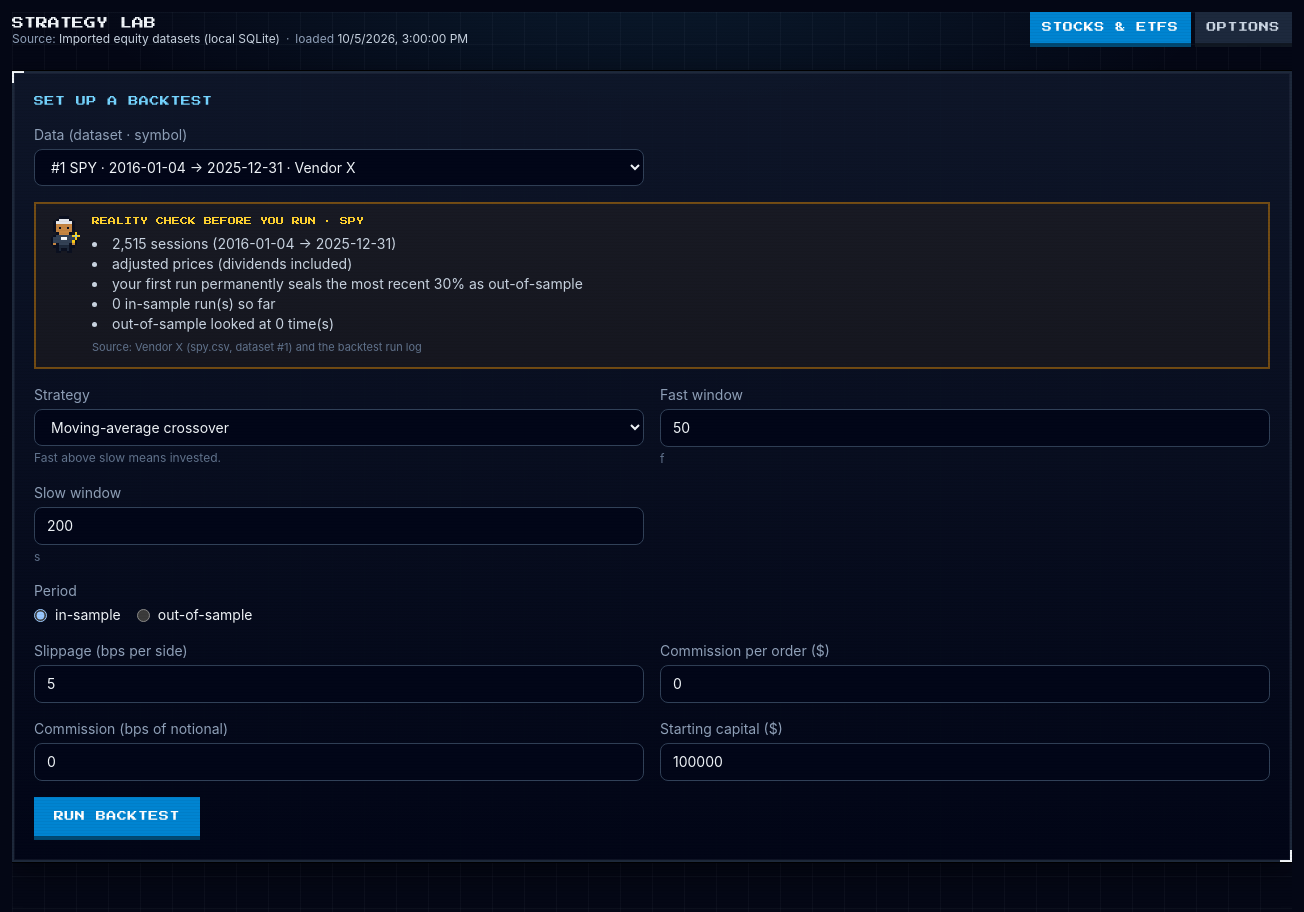
Test case: Options lab › says "No data" when no option quotes are imported
Click the tab "Options" at (1243, 30), box [1194, 12, 1292, 47]
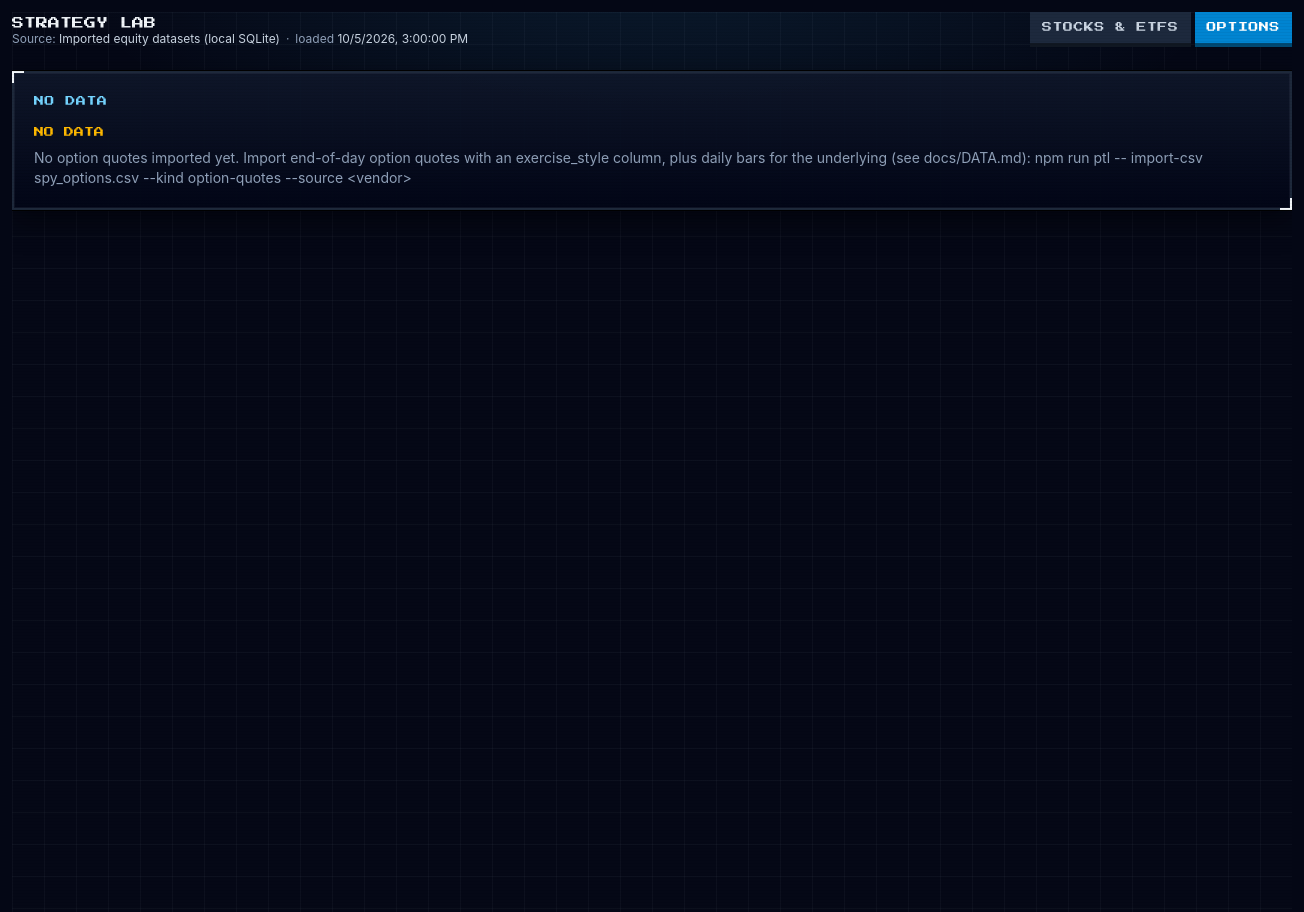
Result: the text "No option quotes imported yet" is shown at [34, 149, 1203, 186]
